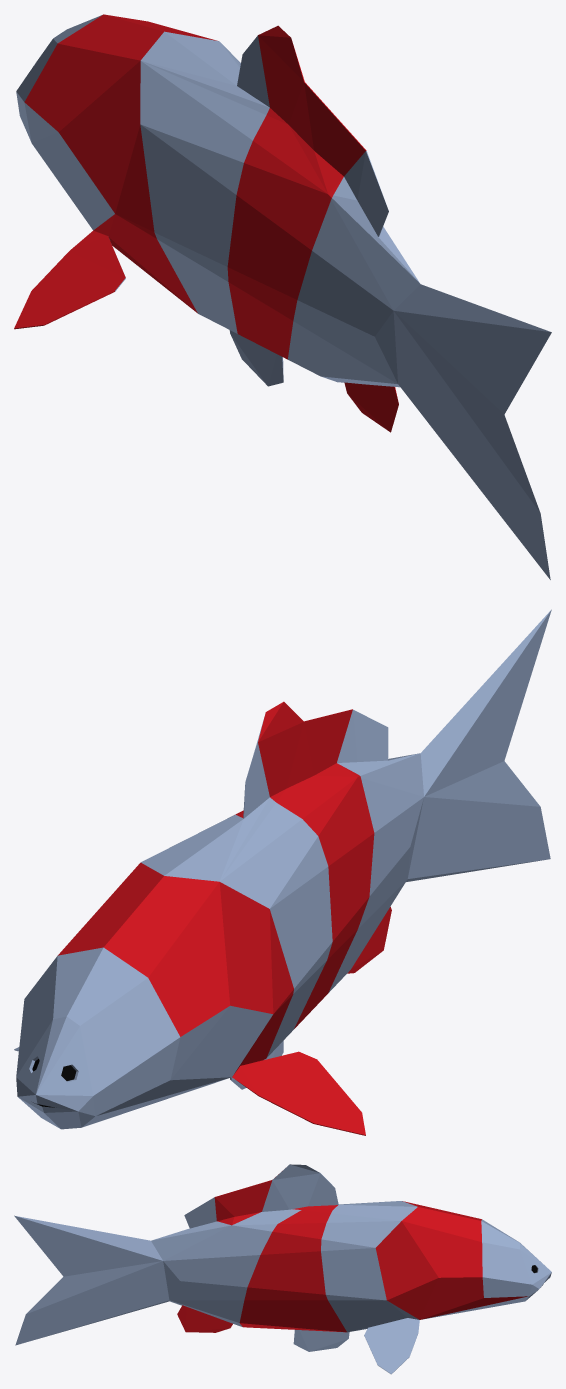
The model's file is fish_rizzler.obj.
3 views of the same model, one above another, from view 1: azimuth 30°, elevation 25°; view 2: azimuth 150°, elevation 25°; view 3: azimuth 270°, elevation 25° (orthographic). The views are drawn at different scales.
Parts seen in each view (by area): view 1: 0, 1; view 2: 0, 1; view 3: 0, 1.
Part boxes in pixels (x1,y1,x2,y2): 0: [16, 15, 551, 579]; 1: [14, 14, 398, 432]; 0: [14, 609, 551, 1129]; 1: [58, 701, 391, 1135]; 0: [14, 1164, 551, 1374]; 1: [177, 1174, 527, 1332].
Bounding box in the file's own units: 0.1606 × 0.1577 × 0.408.
